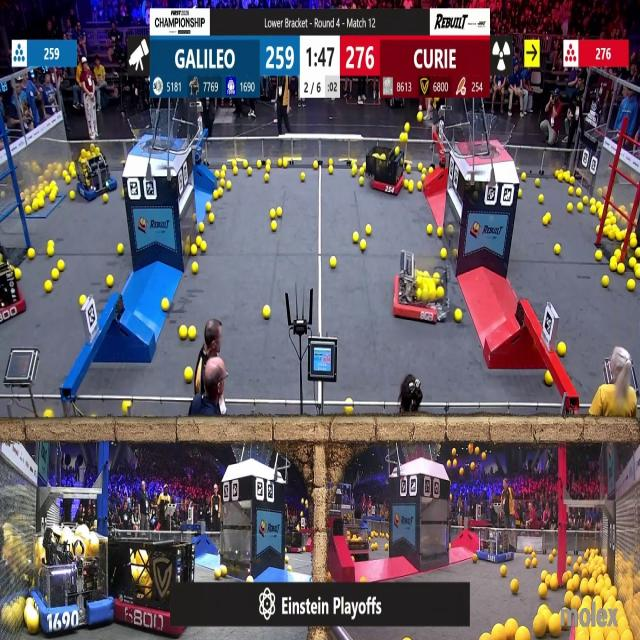ball_airborne: (399, 133, 406, 143), (403, 122, 409, 131), (418, 112, 423, 121), (470, 463, 475, 470), (482, 453, 487, 460), (460, 468, 464, 476), (474, 448, 478, 456), (468, 444, 472, 452), (453, 449, 457, 456), (446, 460, 450, 467), (453, 459, 456, 466)
ball_ground: (550, 619, 562, 639), (28, 615, 39, 635), (518, 628, 530, 640), (512, 580, 520, 596), (538, 586, 547, 600), (544, 372, 552, 387), (570, 596, 579, 609), (558, 343, 566, 357), (184, 367, 192, 381), (187, 326, 195, 340), (264, 306, 272, 319), (564, 594, 572, 607), (180, 325, 187, 339), (454, 310, 462, 322), (628, 280, 636, 292), (630, 236, 638, 248), (550, 580, 558, 592), (107, 276, 114, 288), (163, 300, 170, 312), (44, 280, 51, 292), (346, 407, 354, 417), (629, 257, 637, 267), (539, 570, 547, 580), (602, 276, 609, 287), (329, 256, 336, 267), (555, 244, 562, 255), (51, 270, 58, 281), (46, 246, 53, 257), (542, 214, 549, 225), (220, 566, 227, 577), (610, 260, 616, 272), (212, 189, 220, 198), (44, 412, 52, 421), (59, 262, 66, 272), (619, 265, 626, 275), (37, 200, 44, 210), (29, 248, 35, 259), (596, 250, 602, 261), (442, 248, 448, 259), (352, 233, 358, 244), (120, 242, 126, 253), (271, 208, 277, 219), (524, 559, 531, 568), (272, 220, 278, 230), (79, 294, 85, 304), (364, 224, 370, 234), (500, 566, 506, 576), (190, 246, 196, 256), (215, 566, 220, 578), (436, 228, 442, 238), (576, 203, 582, 213), (201, 242, 207, 252), (635, 268, 640, 280), (122, 400, 128, 410), (554, 170, 560, 180), (482, 633, 490, 640), (191, 264, 196, 275), (538, 193, 544, 202), (209, 214, 215, 223), (591, 206, 597, 215), (352, 167, 358, 176), (26, 206, 32, 215), (602, 226, 608, 235), (427, 224, 432, 234), (15, 270, 20, 280), (360, 241, 365, 251), (247, 575, 253, 583), (206, 204, 212, 212), (70, 191, 76, 199), (616, 250, 622, 258), (596, 225, 602, 233), (194, 237, 200, 245), (284, 556, 290, 564), (566, 557, 572, 565), (584, 198, 590, 206), (103, 193, 108, 202), (299, 173, 304, 182), (200, 222, 205, 231), (567, 204, 572, 213), (568, 186, 573, 195), (277, 208, 282, 217), (49, 191, 54, 200), (569, 175, 574, 184), (453, 248, 458, 257), (66, 176, 72, 183), (358, 168, 364, 175), (277, 161, 283, 168), (370, 542, 376, 549), (420, 174, 426, 181), (472, 555, 477, 563), (410, 180, 414, 190), (635, 248, 640, 256), (215, 171, 220, 179), (256, 162, 261, 170), (538, 181, 543, 189), (547, 556, 552, 564), (408, 166, 413, 174), (283, 161, 288, 169), (575, 187, 580, 195), (519, 189, 524, 197), (403, 180, 408, 188), (608, 232, 613, 240), (449, 224, 454, 232), (531, 552, 536, 560), (524, 546, 530, 552), (560, 173, 564, 182), (360, 575, 365, 582), (234, 168, 239, 175), (418, 165, 423, 172), (266, 167, 271, 174), (428, 168, 433, 175), (418, 182, 422, 190), (226, 181, 230, 189), (359, 177, 363, 185), (328, 167, 332, 175), (522, 173, 526, 181), (535, 178, 539, 186), (532, 559, 536, 567), (314, 162, 318, 170), (248, 168, 252, 176), (552, 551, 557, 557), (266, 175, 270, 182), (220, 180, 224, 187), (244, 162, 248, 169), (64, 171, 68, 178), (328, 161, 332, 167), (385, 543, 389, 549), (288, 566, 292, 572), (121, 190, 123, 197)
goal: (460, 118, 516, 158), (129, 115, 186, 152)
robot_blue: (32, 527, 118, 633), (75, 146, 118, 202), (480, 528, 516, 564)
robot_red: (115, 537, 202, 634), (395, 269, 447, 323), (367, 142, 406, 196), (0, 243, 25, 323), (347, 524, 371, 558), (284, 529, 304, 551), (438, 0, 488, 7)
